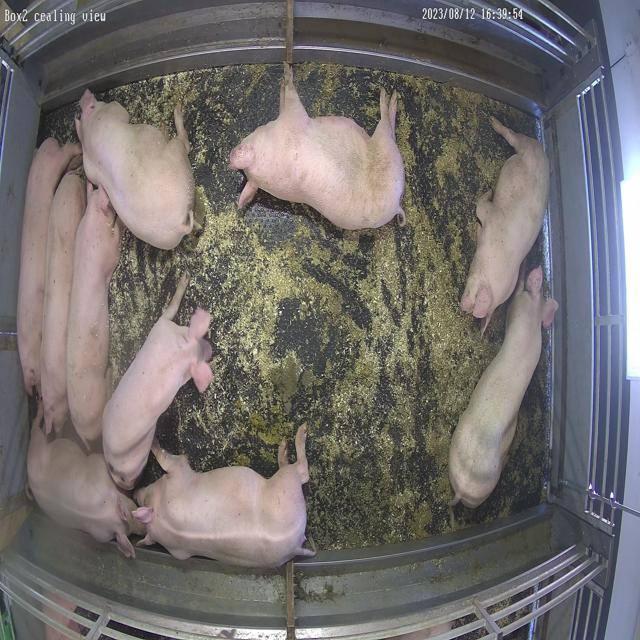Dirt: (101, 64, 548, 552)
Pig: (230, 64, 405, 230), (450, 267, 559, 508), (133, 425, 315, 568), (102, 275, 213, 490), (461, 117, 551, 332), (75, 90, 195, 250), (27, 411, 144, 558), (16, 137, 81, 396), (66, 182, 120, 450), (40, 171, 86, 434)
